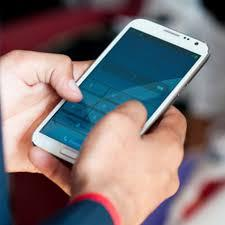Calculator: (40, 66, 164, 159)
